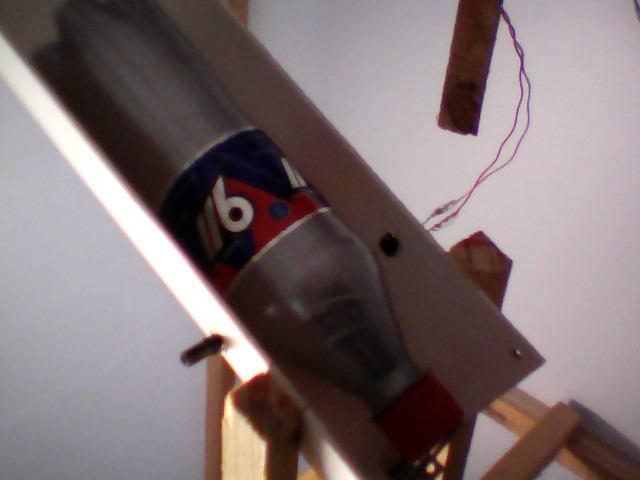plastico: (29, 1, 467, 471)
